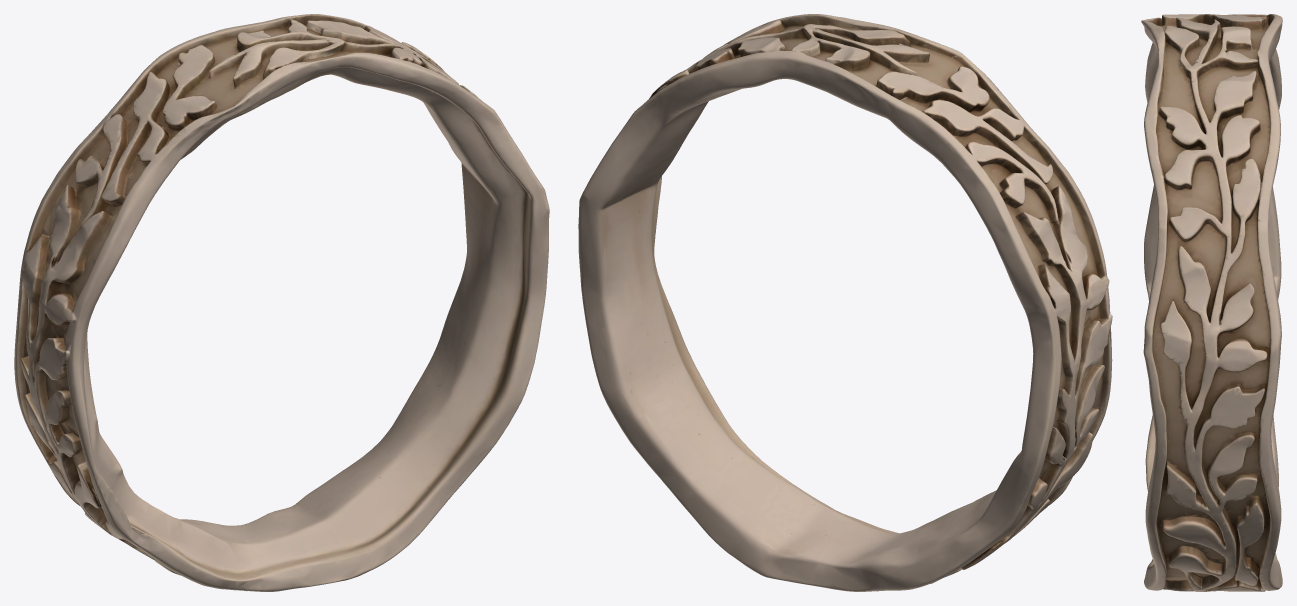
The model's file is floral-ring.glb.
The picture shows the model from 3 angles, left to right: view 1: azimuth 30°, elevation 25°; view 2: azimuth 150°, elevation 25°; view 3: azimuth 270°, elevation 25°; orthographic projection.
Visible parts, largest first — view 1: aiprintgen_node_7a8a52f9-5526-4ded-b00d-31f0543288b3; view 2: aiprintgen_node_7a8a52f9-5526-4ded-b00d-31f0543288b3; view 3: aiprintgen_node_7a8a52f9-5526-4ded-b00d-31f0543288b3.
Part boxes in pixels (bbox=[...]): aiprintgen_node_7a8a52f9-5526-4ded-b00d-31f0543288b3: bbox=[14, 14, 549, 591]; aiprintgen_node_7a8a52f9-5526-4ded-b00d-31f0543288b3: bbox=[578, 14, 1112, 591]; aiprintgen_node_7a8a52f9-5526-4ded-b00d-31f0543288b3: bbox=[1141, 14, 1282, 591].
Size of the model in its own units: 0.9541 by 0.9999 by 0.2431.
1 material, 1 textured.
